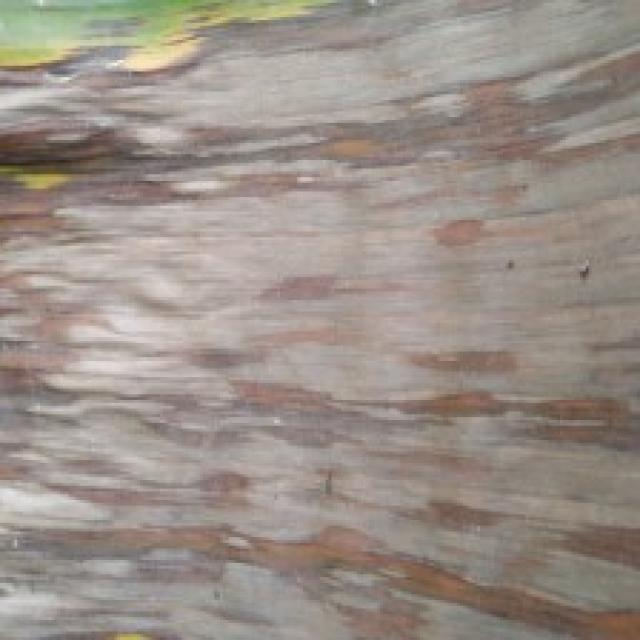Early_leaf_spot: (0, 0, 640, 632)
